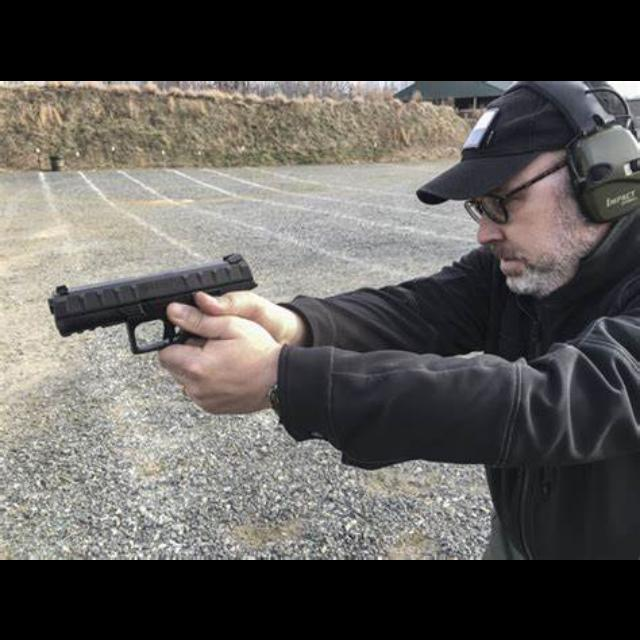handgun: (42, 247, 262, 356)
